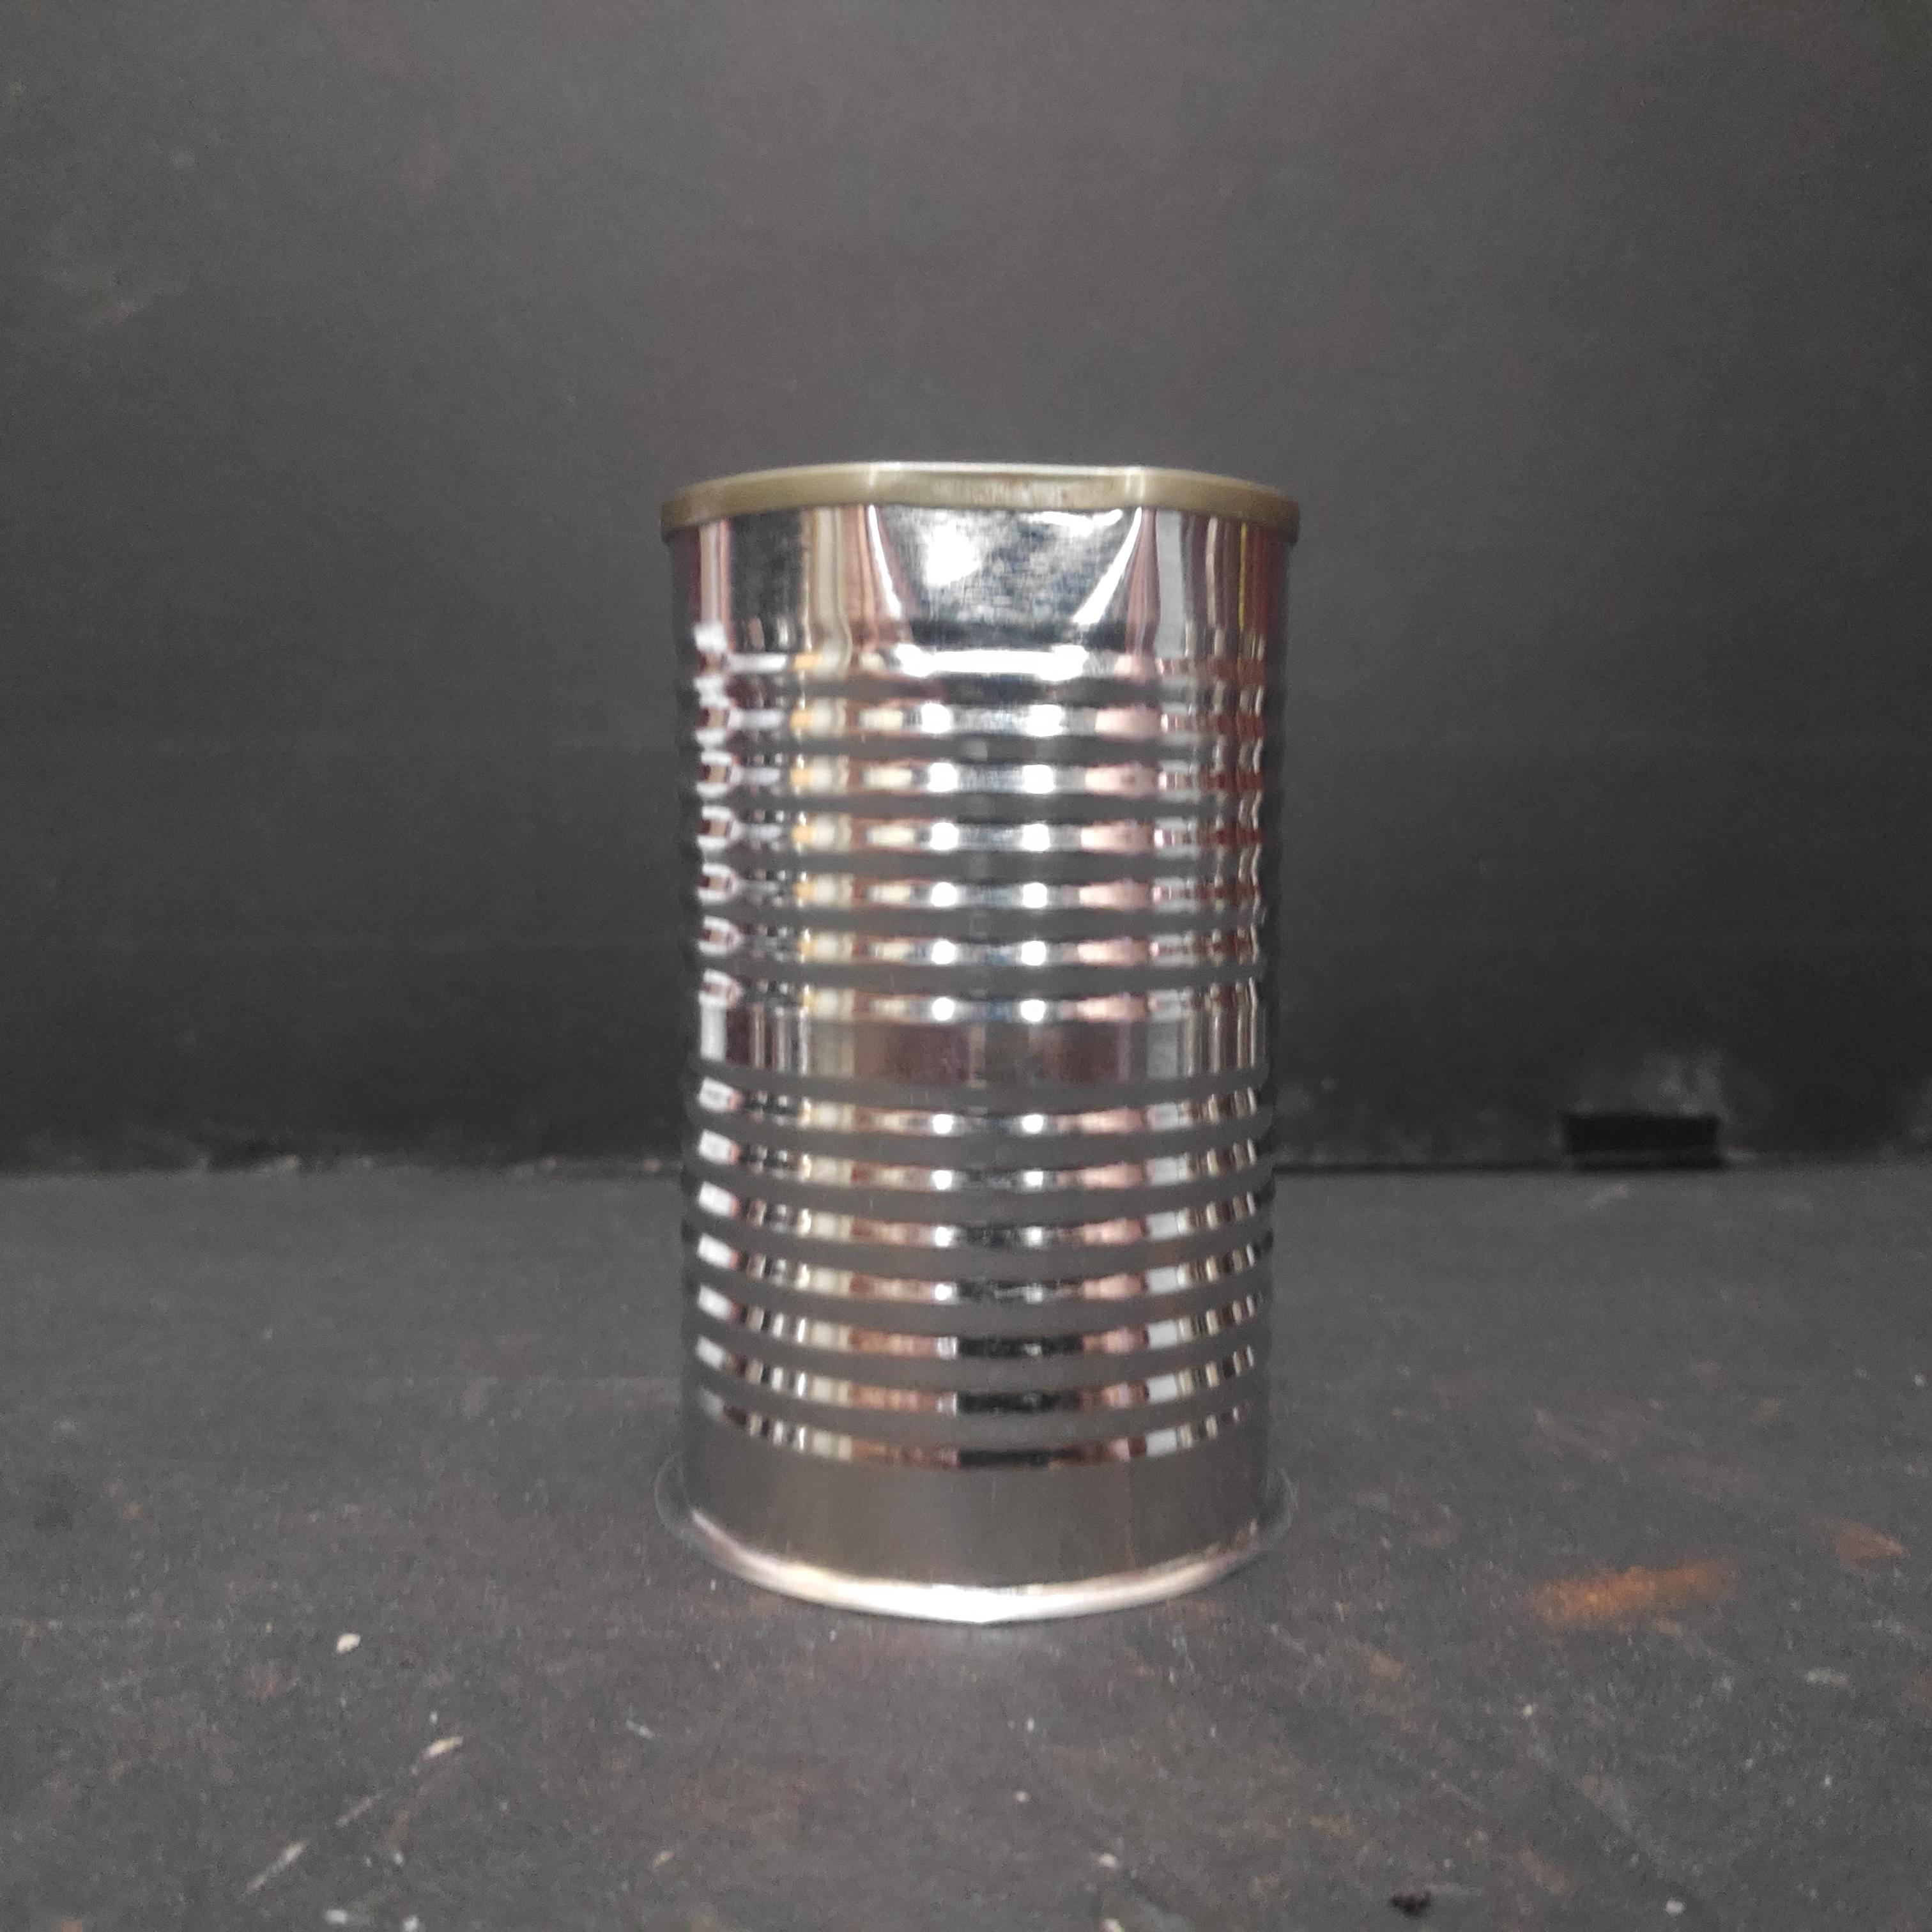Minor Defect: (656, 455, 1309, 1640)
